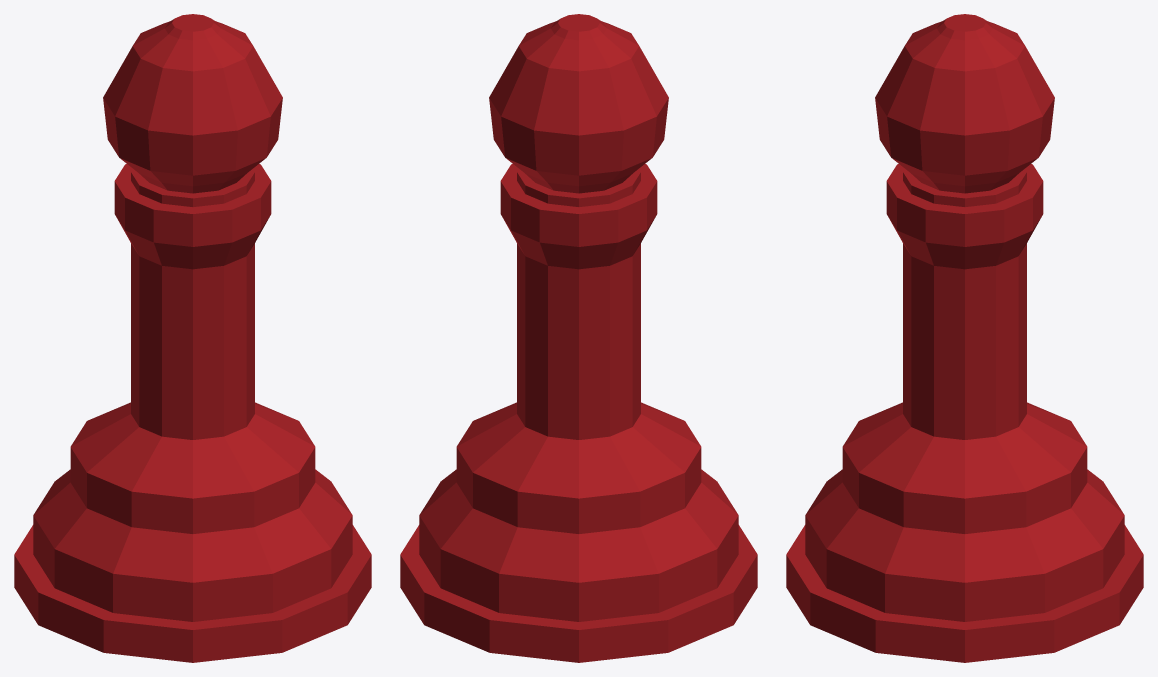
File: lowpoly_p_b.glb
3 renders of one model, left to right at view 1: azimuth 30°, elevation 25°; view 2: azimuth 150°, elevation 25°; view 3: azimuth 270°, elevation 25°, orthographic.
Visible parts, largest first — view 1: Pawn.008; view 2: Pawn.008; view 3: Pawn.008.
Boxes of the visible parts, bbox=[...] form: Pawn.008: bbox=[14, 14, 371, 662]; Pawn.008: bbox=[400, 14, 757, 662]; Pawn.008: bbox=[786, 14, 1143, 662].
Bounding box in the file's own units: 0.064 × 0.1115 × 0.064.
